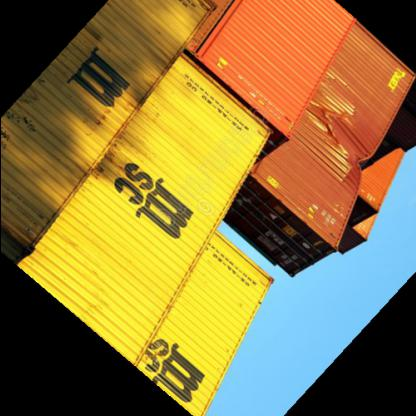Damage: (324, 106, 382, 168)
